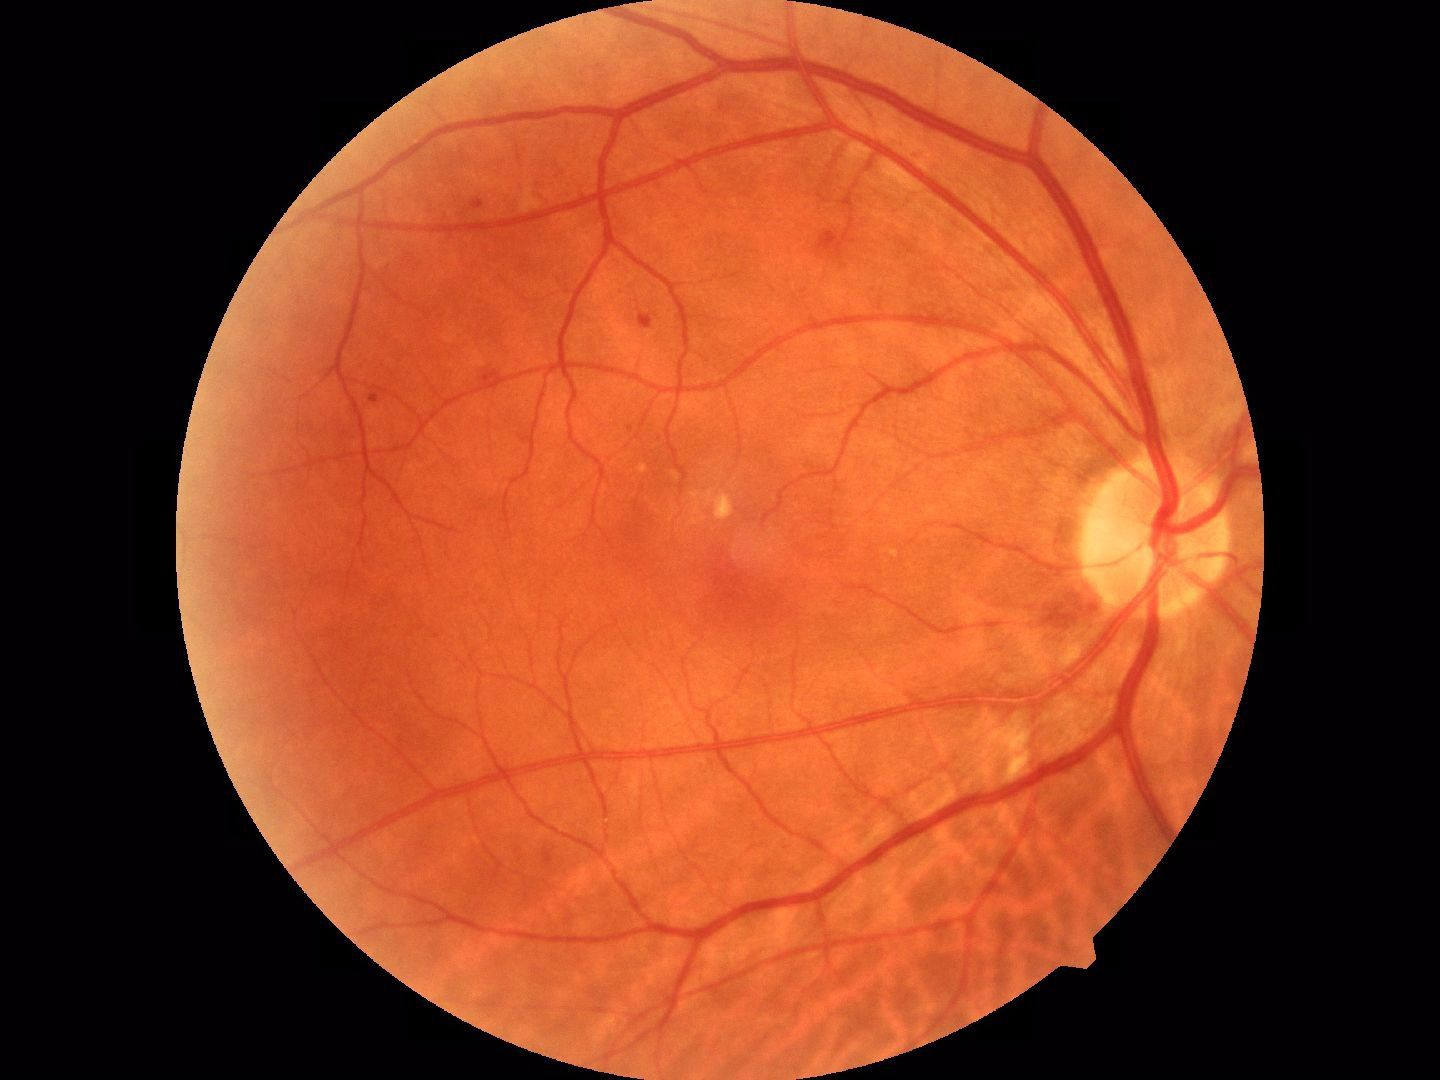Arterioles: (405, 613, 645, 817), (516, 277, 718, 486)
Optic-Disc: (1069, 442, 1240, 626)
Venules: (909, 206, 1153, 383), (1082, 655, 1151, 775)
